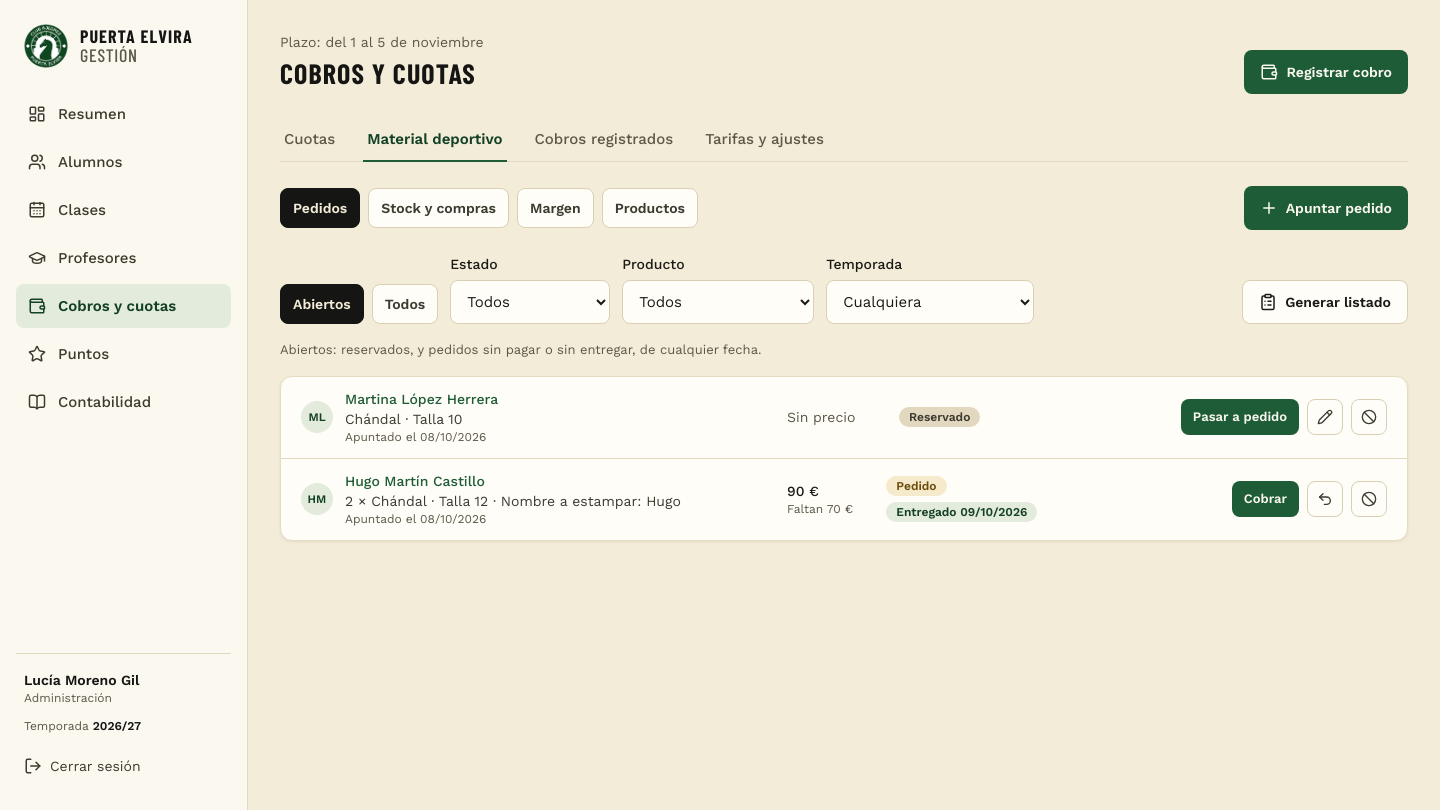
Scenario: Material deportivo › generates a list of the reserved orders by product, choosing products and showing prices on demand
Expected: the list named "Pedidos de material" is shown, x1=281 y1=376 x2=1407 y2=540
Click the button "Generar listado" at x=1325, y=302, box x1=1242 y1=280 x2=1408 y2=324
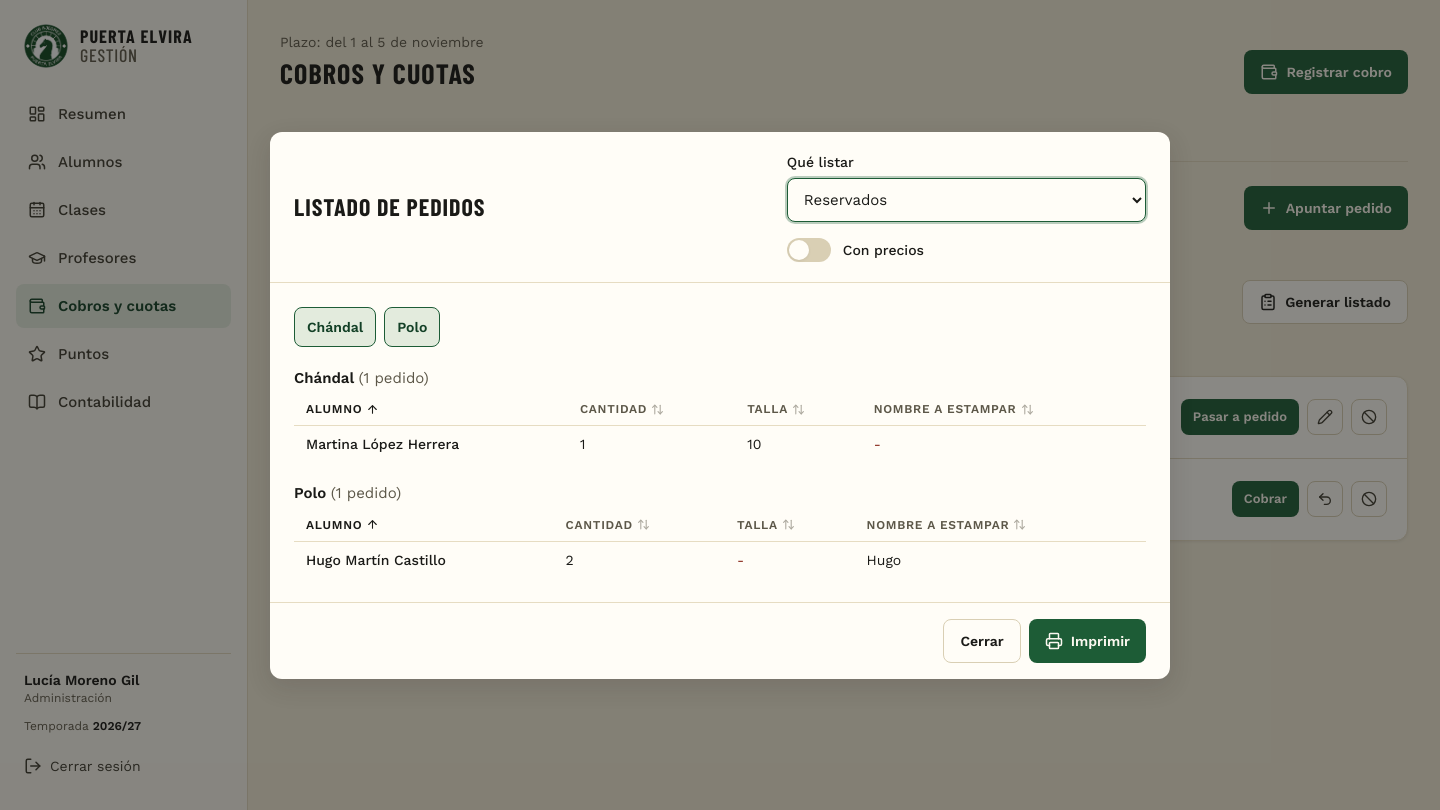
Result: the dropdown labelled "Qué listar" shows "Reservados" at x1=787 y1=178 x2=1146 y2=222
Result: the cells read "Martina López Herrera", "1", "10", "-", in this order at x1=294 y1=426 x2=568 y2=462; x1=568 y1=426 x2=735 y2=462; x1=735 y1=426 x2=862 y2=462; x1=862 y1=426 x2=1146 y2=462
Result: the cells read "Hugo Martín Castillo", "2", "-", "Hugo", in this order at x1=294 y1=542 x2=554 y2=578; x1=554 y1=542 x2=725 y2=578; x1=725 y1=542 x2=855 y2=578; x1=855 y1=542 x2=1146 y2=578
Note: Los precios se añaden al listado (el del producto por la cantidad cuando aún no lo tiene).
Click the switch named "Con precios" at x=809, y=250, box x1=787 y1=238 x2=831 y2=262
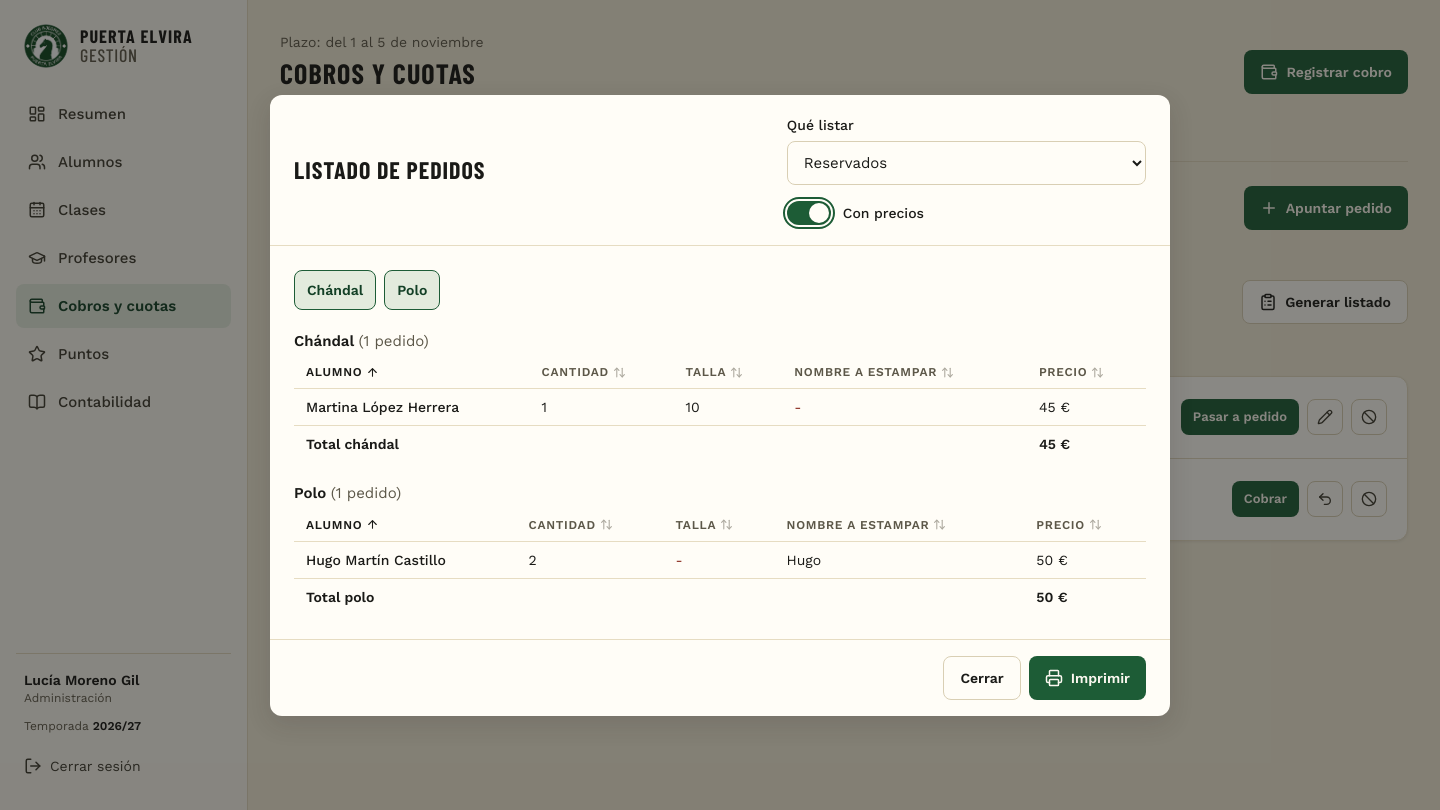
Result: the row "Hugo Martín Castillo 2 - Hugo 50 €" is shown at x1=294 y1=542 x2=1146 y2=578
Result: the text "Total polo" shows "50 €" at x1=1036 y1=588 x2=1068 y2=604
Note: Se elige qué productos listar.
Click the button "Chándal" at x=335, y=290, box x1=294 y1=270 x2=376 y2=310
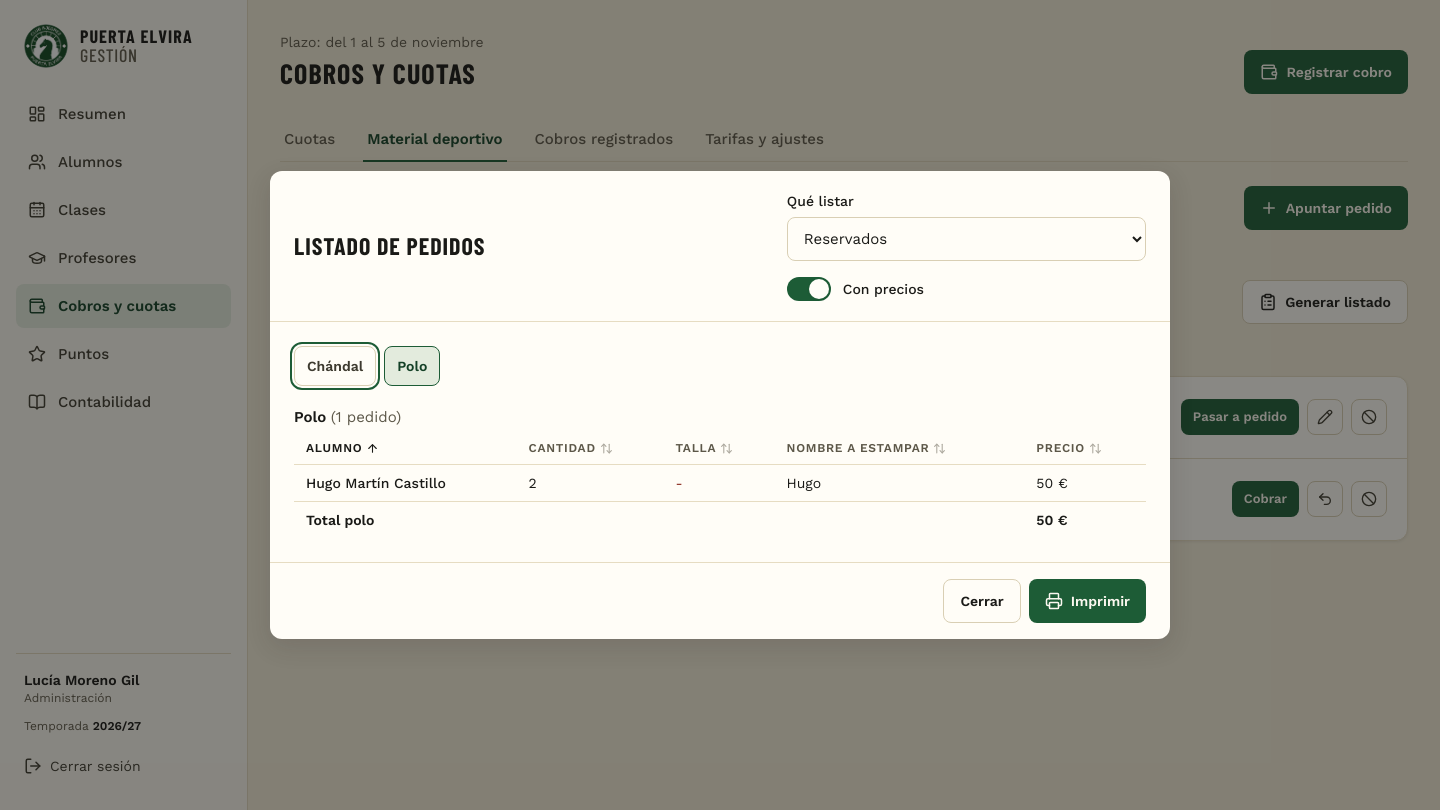
Expected: the table "Listado de Chándal" is not shown
Result: the table named "Listado de Polo" is shown at x1=294 y1=432 x2=1146 y2=538
Note: «Imprimir» abre la impresión del navegador (desde ahí se guarda en PDF) con lo que se ve.
Click the button "Imprimir" at x=1087, y=601, box x1=1029 y1=579 x2=1146 y2=623
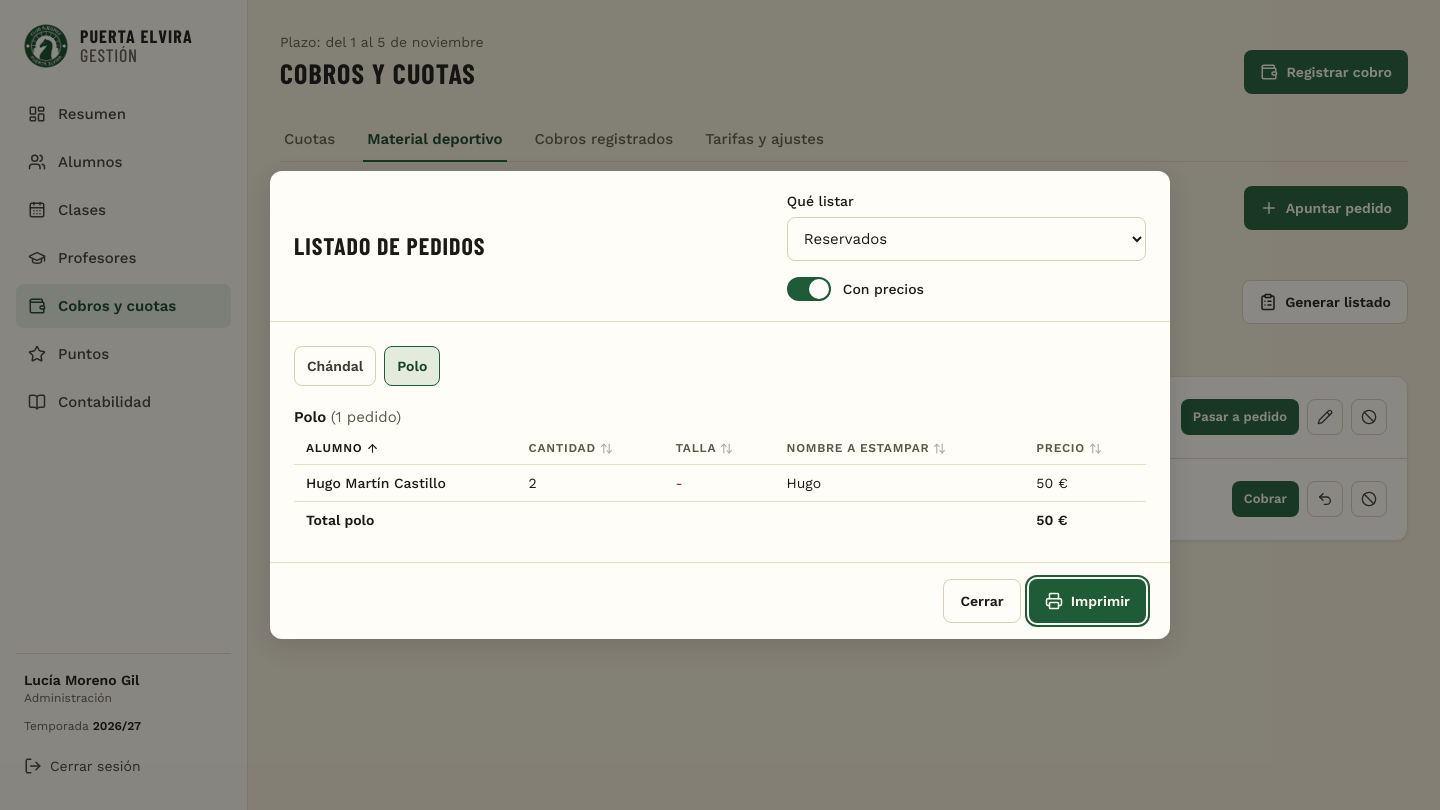
Note: Sin ningún producto elegido no hay nada que imprimir.
Click the button "Polo" at x=412, y=366, box x1=384 y1=346 x2=440 y2=386
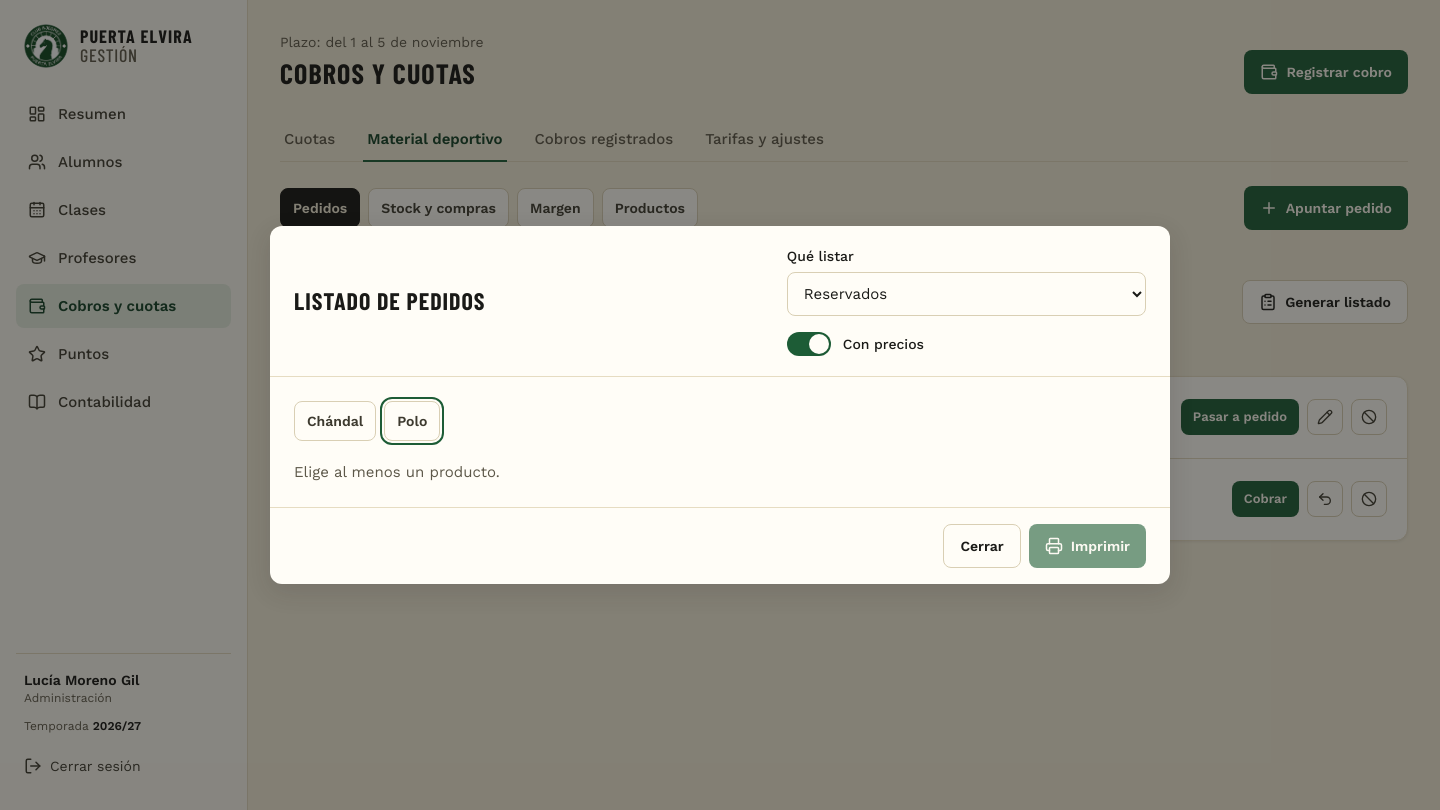
Result: the button "Imprimir" is disabled at x1=1029 y1=524 x2=1146 y2=568
